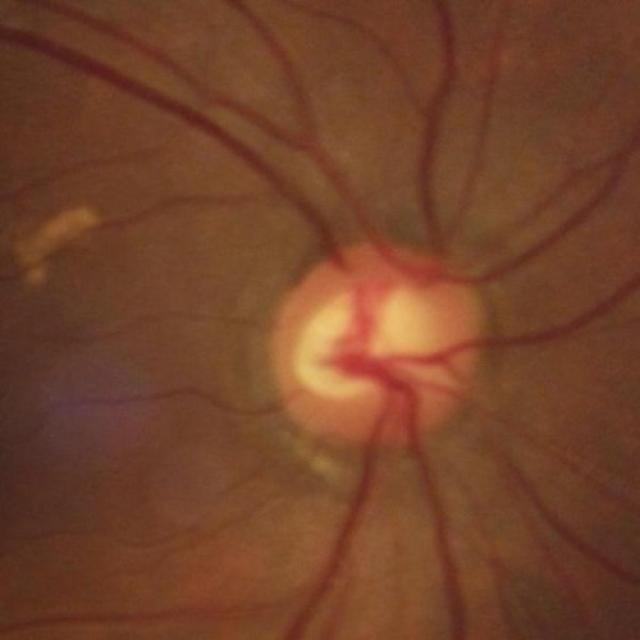OC: (297, 288, 428, 398)
OD: (279, 248, 477, 450)
